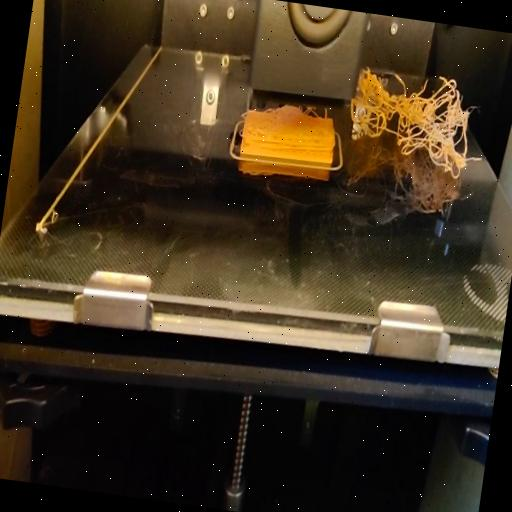spaghetti: (345, 50, 484, 182)
